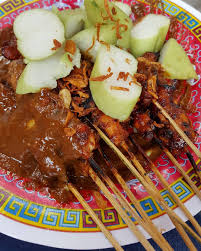sate: (6, 7, 201, 196)
